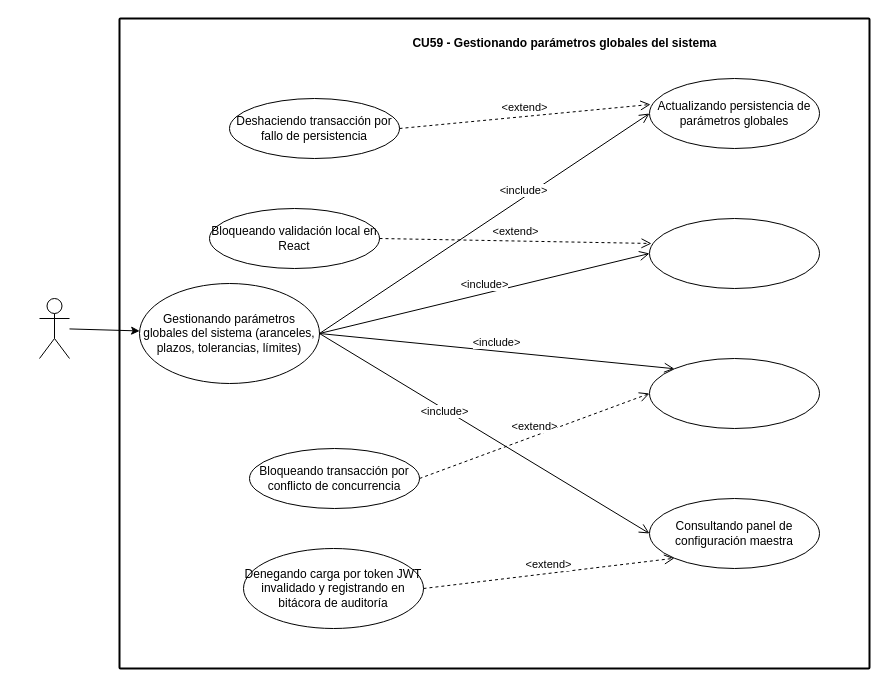
The diagram is 888 pixels wide and 686 high, and some of its shapes have lost their labels. Each missing label, with the centre of its shape:
Administrador: point (54, 328)
Modificando variables parametrizadas: point (734, 393)
Validando esquema de datos entrantes: point (734, 253)
